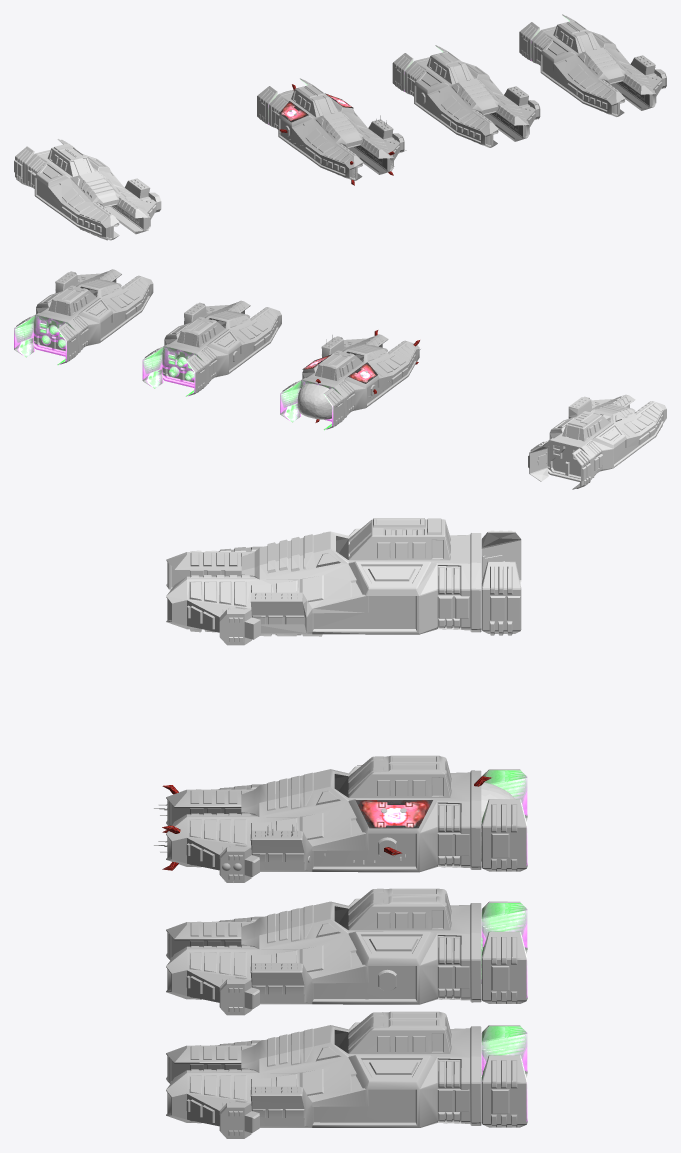
File: bst_carrier.dae
3 views of the same model, one above another, from view 1: azimuth 30°, elevation 25°; view 2: azimuth 150°, elevation 25°; view 3: azimuth 270°, elevation 25° (orthographic). The views are drawn at different scales.
Visible parts, largest first — view 1: COL[Root], MULT[carrier]_LOD[1], MULT[carrier]_LOD[2], MULT[carrier]_LOD[0], MULT[dockpads]_LOD[0]; view 2: MULT[carrier]_LOD[2], MULT[carrier]_LOD[1], COL[Root], MULT[carrier]_LOD[0], GLOW[EngineGlow3]_LOD[0], MULT[dockpads]_LOD[0]; view 3: MULT[carrier]_LOD[1], MULT[carrier]_LOD[2], COL[Root], MULT[carrier]_LOD[0], MULT[dockpads]_LOD[0].
Part boxes in pixels (x1,y1,x2,y2): COL[Root]: [14, 139, 161, 240]; MULT[carrier]_LOD[1]: [392, 45, 540, 147]; MULT[carrier]_LOD[2]: [519, 14, 666, 116]; MULT[carrier]_LOD[0]: [257, 78, 406, 180]; MULT[dockpads]_LOD[0]: [279, 93, 353, 122]; MULT[carrier]_LOD[2]: [14, 269, 153, 365]; MULT[carrier]_LOD[1]: [142, 300, 281, 396]; COL[Root]: [528, 394, 666, 489]; MULT[carrier]_LOD[0]: [280, 334, 420, 430]; GLOW[EngineGlow3]_LOD[0]: [297, 383, 331, 419]; MULT[dockpads]_LOD[0]: [302, 354, 377, 383]; MULT[carrier]_LOD[1]: [166, 888, 527, 1015]; MULT[carrier]_LOD[2]: [166, 1011, 527, 1138]; COL[Root]: [166, 518, 521, 645]; MULT[carrier]_LOD[0]: [153, 755, 527, 882]; MULT[dockpads]_LOD[0]: [355, 765, 432, 828].
Size of what is drawn, in the model's own units: 2193 by 184 by 607.
